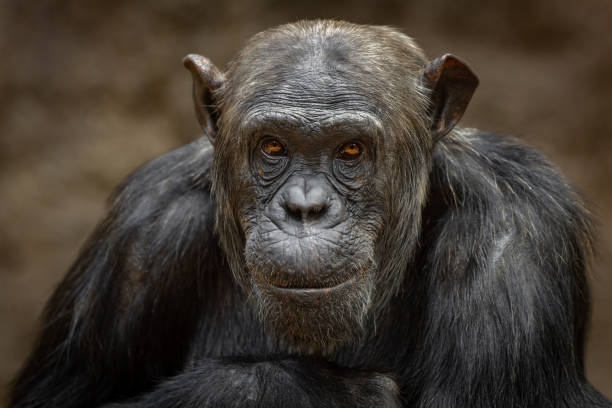chimpanzee: (152, 14, 487, 375)
